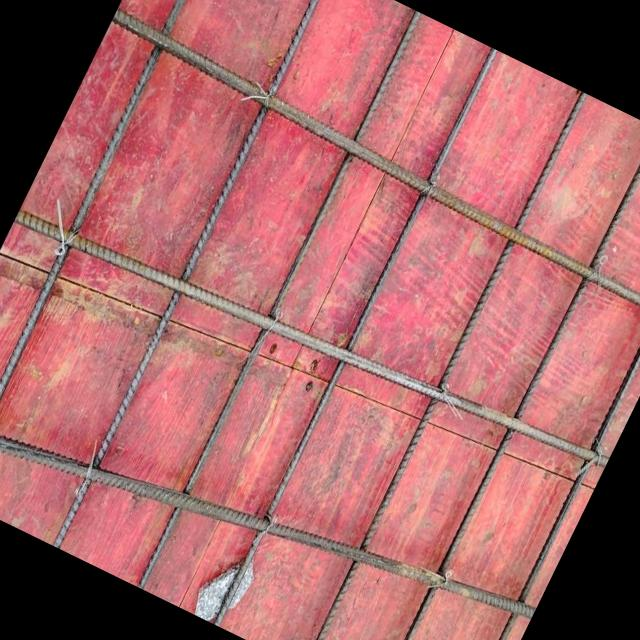ribbed bar: (13, 174, 610, 502), (98, 4, 640, 326), (0, 324, 537, 640), (133, 9, 424, 590), (210, 47, 499, 626), (43, 0, 339, 548), (299, 90, 588, 640), (371, 126, 640, 640), (0, 0, 235, 497), (446, 162, 640, 640)
